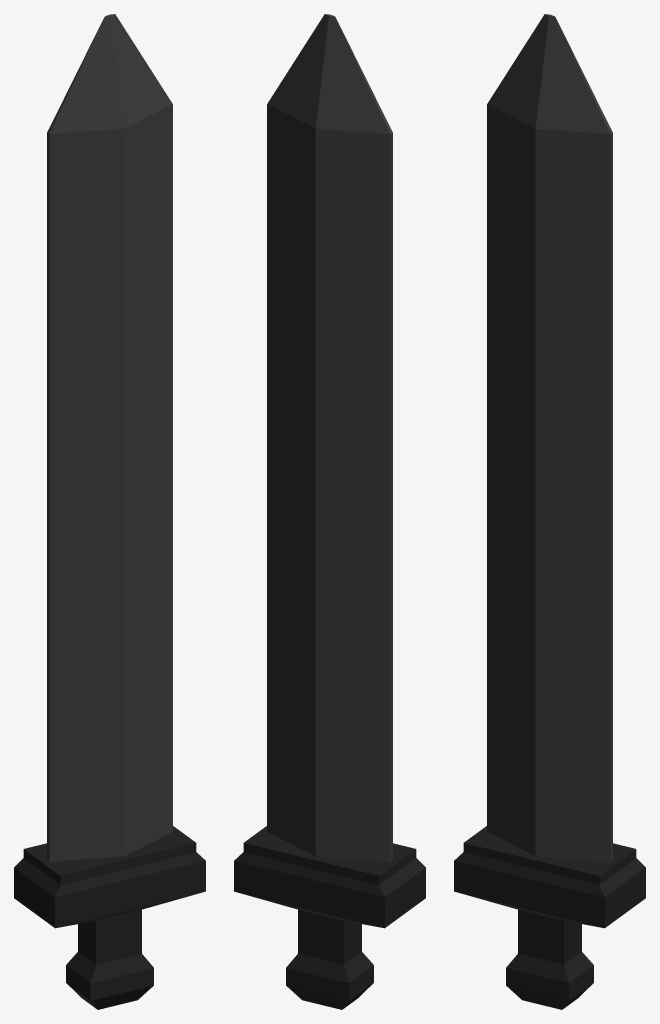
Rendered from GreatSword.fbx.
The picture shows the model from 3 angles, left to right: view 1: azimuth 30°, elevation 25°; view 2: azimuth 150°, elevation 25°; view 3: azimuth 330°, elevation 25°; orthographic projection.
Parts seen in each view (by area): view 1: Cube; view 2: Cube; view 3: Cube.
Part boxes in pixels (x1=…): Cube: x1=14, y1=14, x2=205, y2=1009; Cube: x1=234, y1=14, x2=425, y2=1009; Cube: x1=454, y1=14, x2=645, y2=1009.
Bounding box in the file's own units: 0.4151 × 2.59 × 0.1956.
